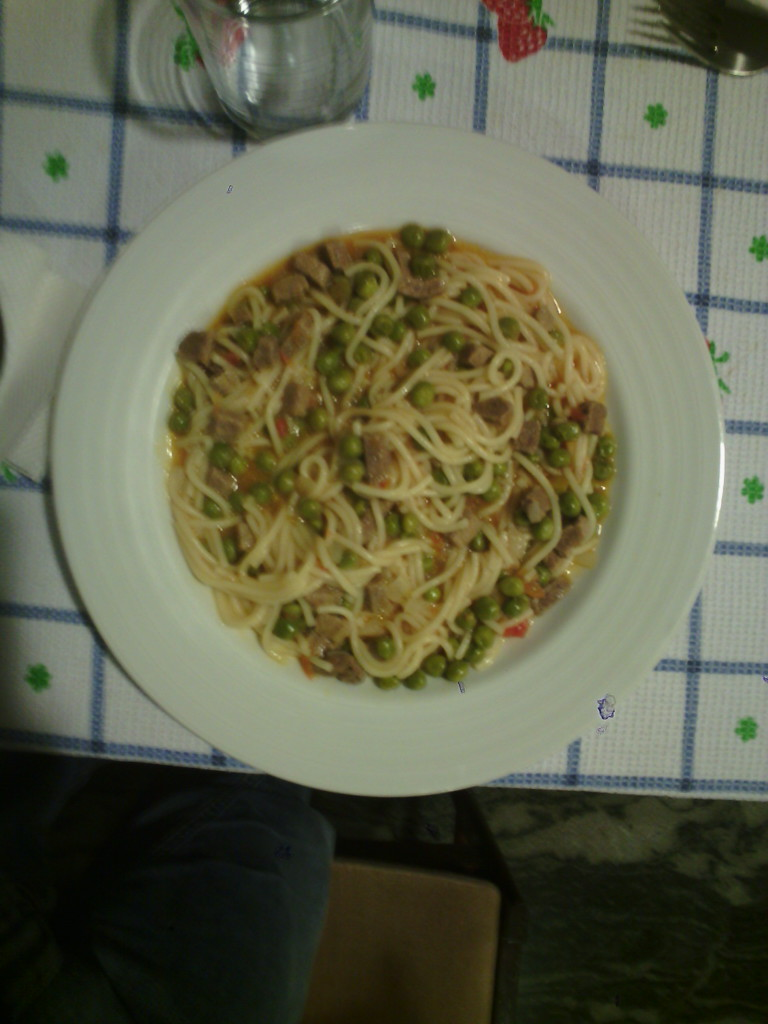81-100: (55, 123, 727, 795)
